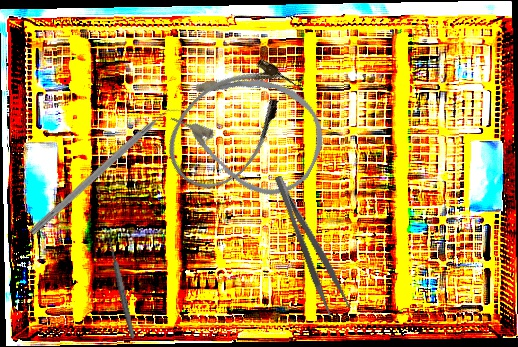Cannula: (157, 46, 340, 212), (150, 41, 311, 205)
Chopper: (28, 98, 187, 244)
Dressing Forceps: (271, 169, 352, 318)
Surgical Spoon: (104, 228, 137, 340)
